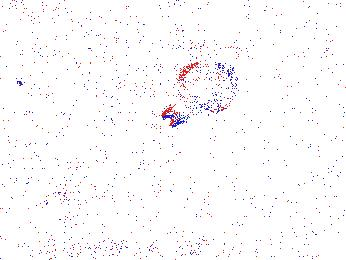flame jellyfish: (161, 57, 240, 129), (53, 157, 100, 207), (7, 163, 56, 210)
